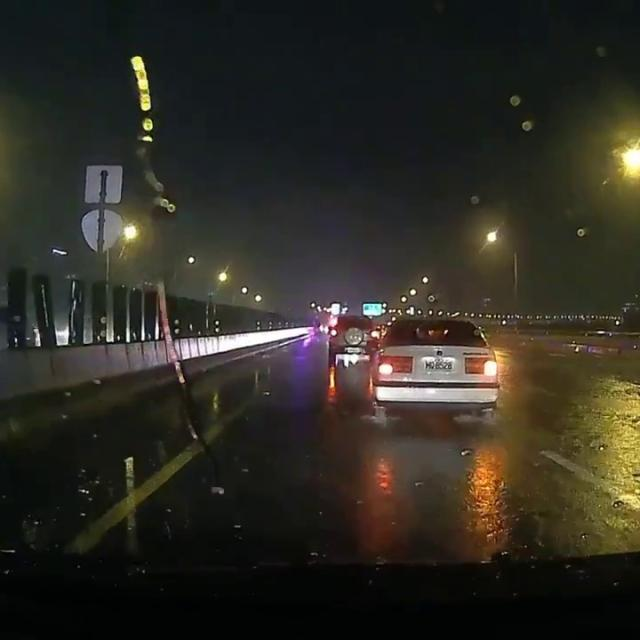Car: (373, 312, 497, 411), (326, 314, 376, 360)
